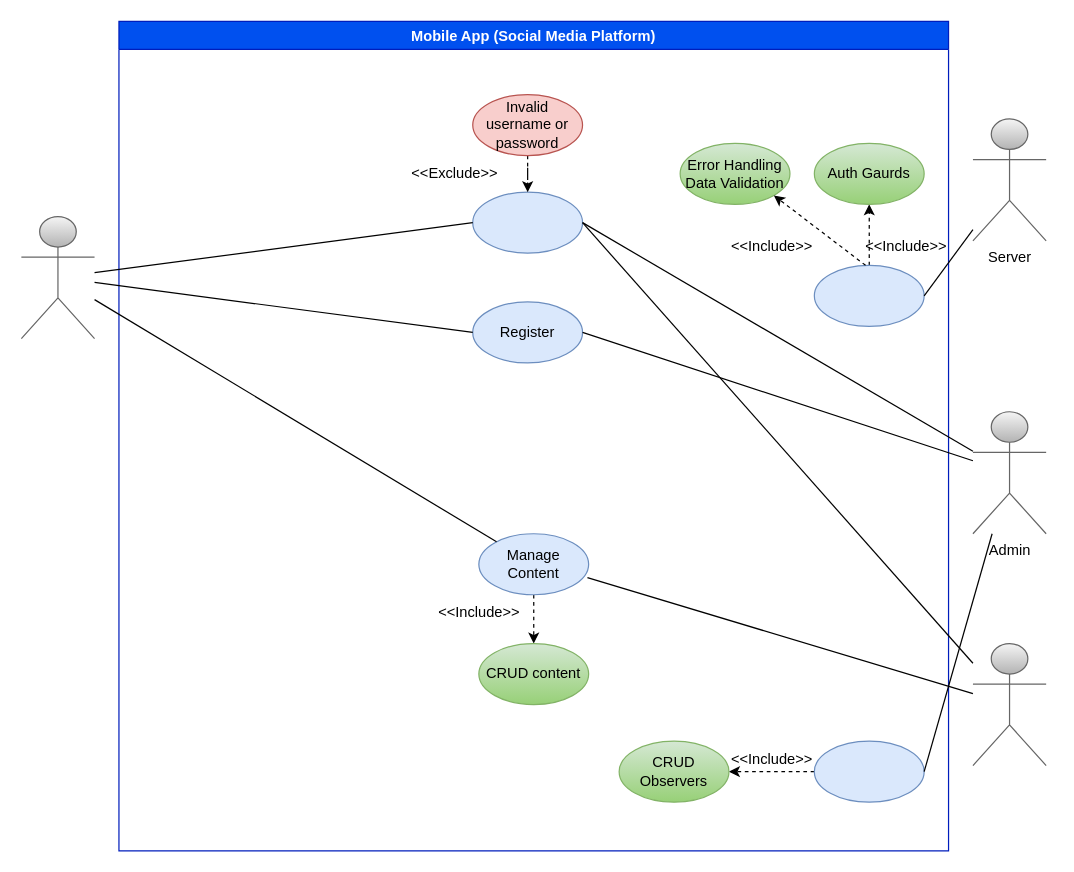
This 1074x872 diagram has some shape labels left out. The centre of each missing label's shape, as x and y in pixels:
Authenticate: point 527,222
Manage Observers: point 868,771
Observer QA: point 1009,704
User: point 57,277
Validate Requests: point 868,295
